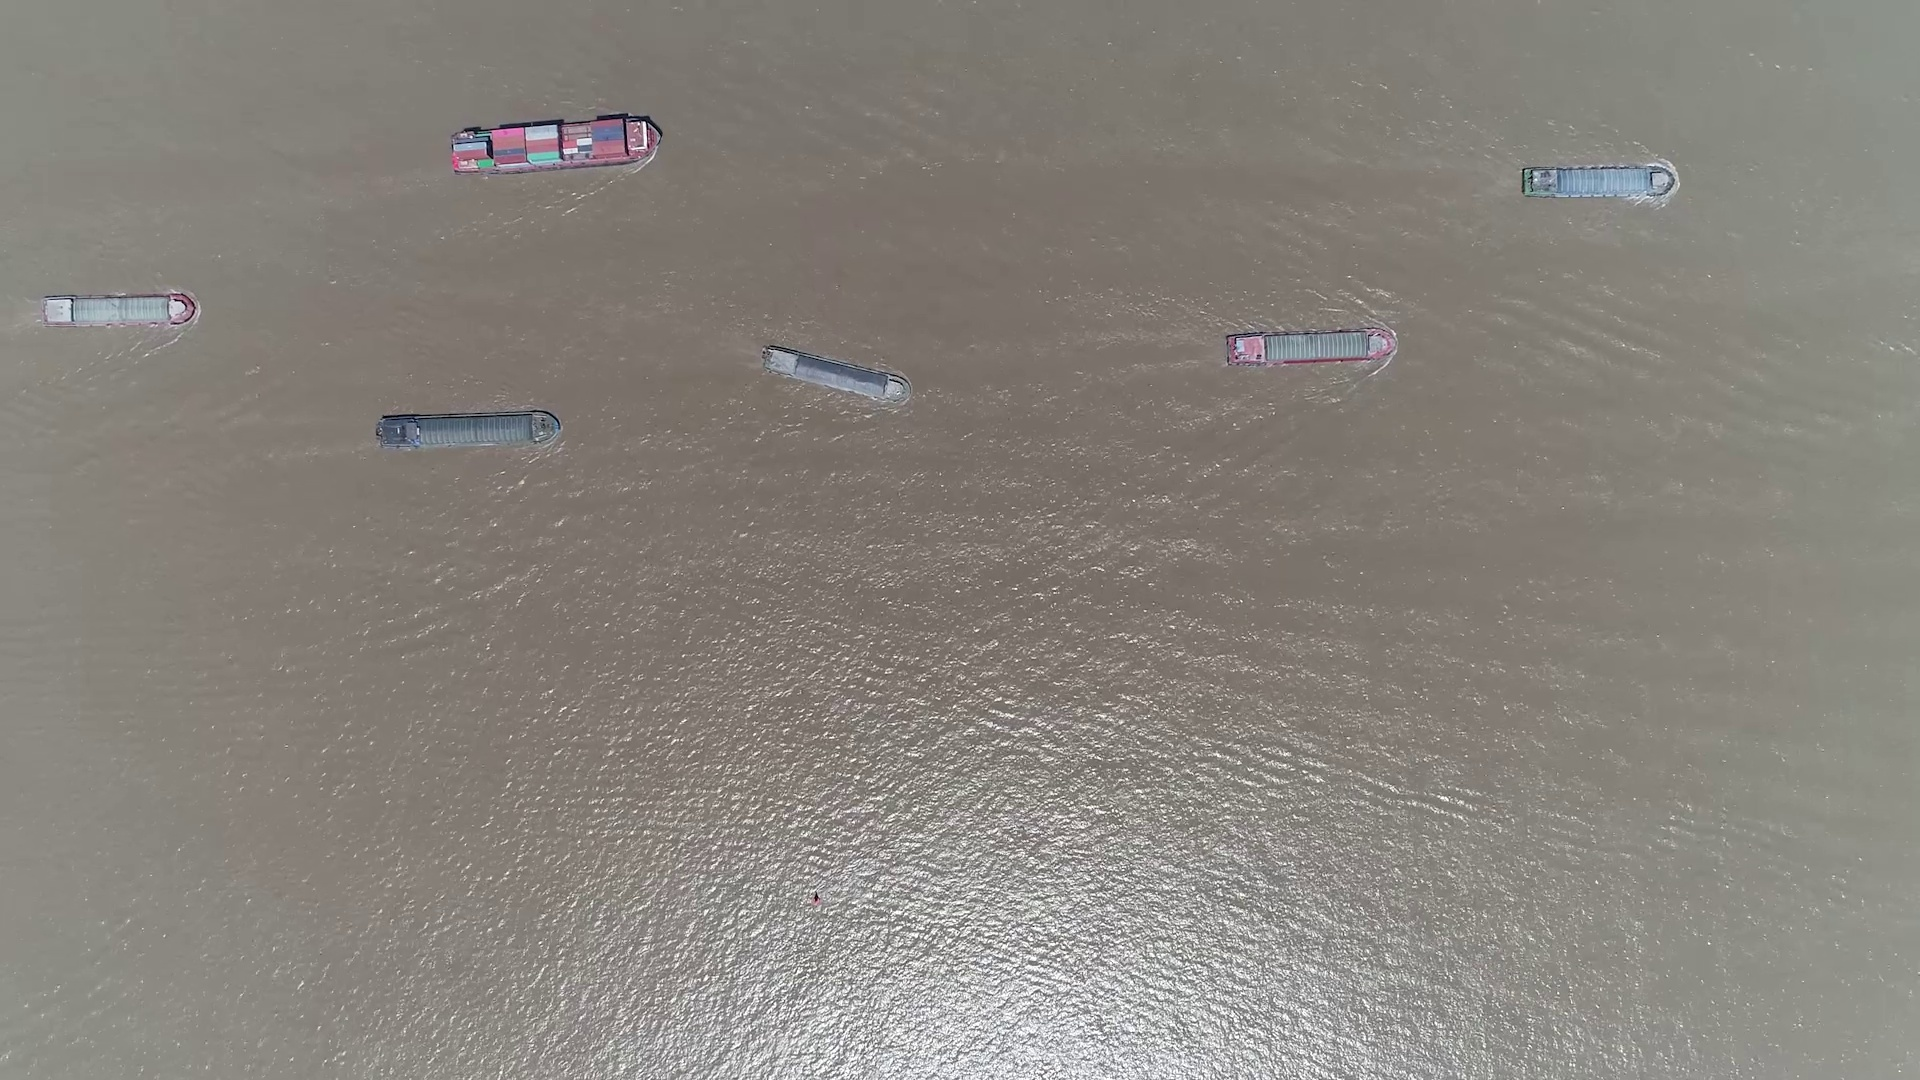ship: (447, 117, 655, 171), (760, 344, 910, 402), (1226, 327, 1396, 367), (376, 411, 556, 448), (40, 291, 195, 326), (1522, 166, 1671, 200)
